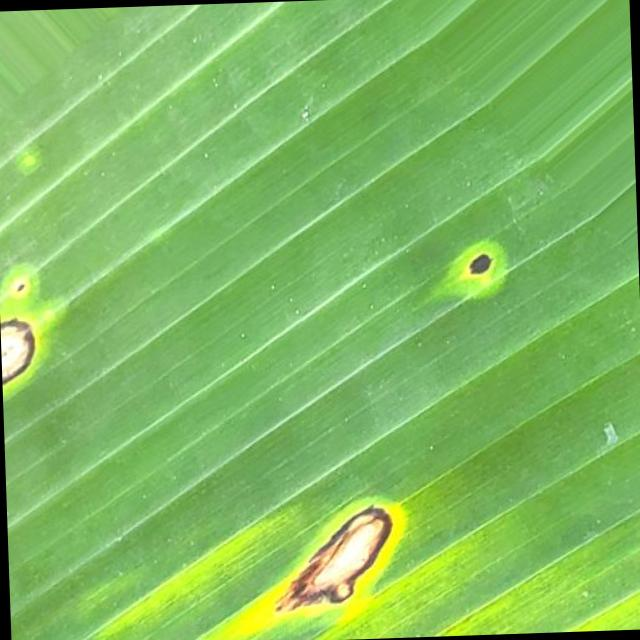Banana_Black_Sigatoka: (323, 166, 640, 376), (186, 422, 481, 640), (0, 240, 91, 412)
